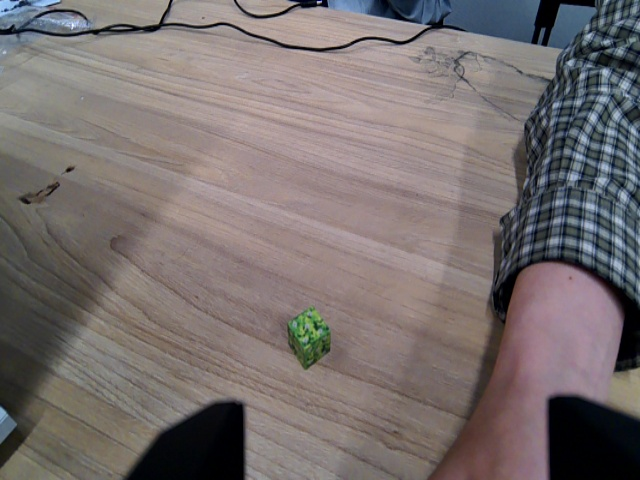grass: (284, 304, 334, 369)
